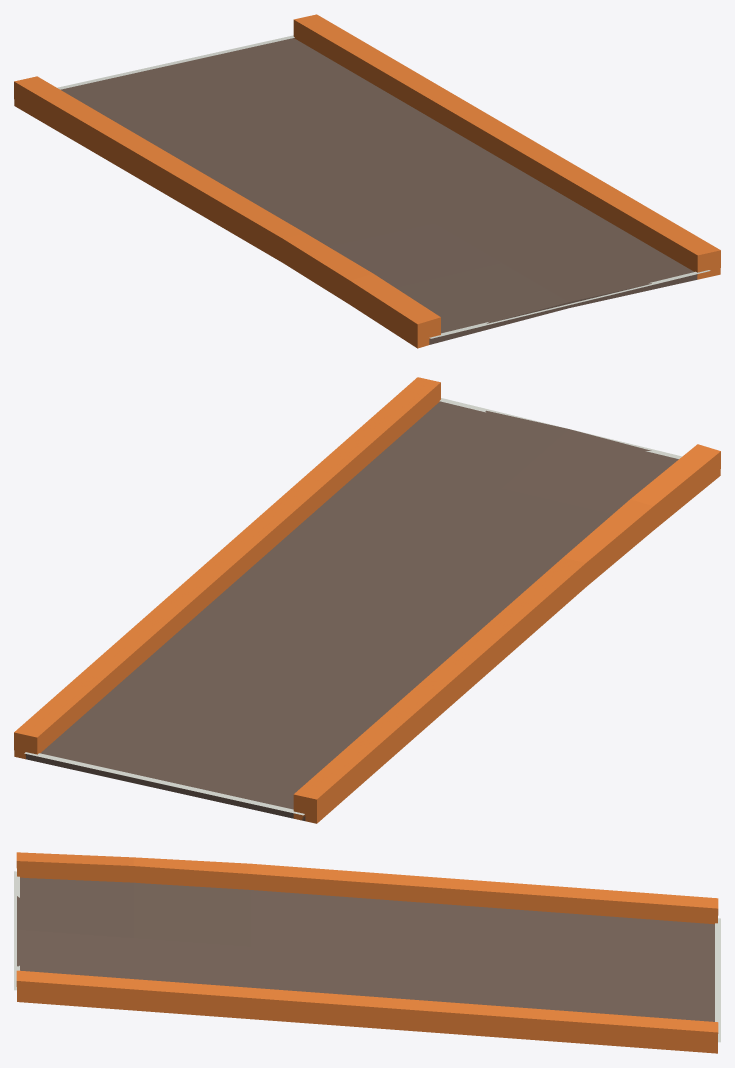
The model's file is SM_MP_Film_A_0_3.fbx.
3 renders of one model, top to bottom at view 1: azimuth 30°, elevation 25°; view 2: azimuth 150°, elevation 25°; view 3: azimuth 270°, elevation 25°, orthographic. The views are drawn at different scales.
Parts seen in each view (by area): view 1: SM_MP_Film_A_0_3; view 2: SM_MP_Film_A_0_3; view 3: SM_MP_Film_A_0_3.
Part boxes in pixels (bbox=[...]): SM_MP_Film_A_0_3: bbox=[14, 14, 720, 348]; SM_MP_Film_A_0_3: bbox=[14, 377, 720, 823]; SM_MP_Film_A_0_3: bbox=[14, 852, 720, 1053].
Size of what is drawn, in the model's own units: 260 by 605 by 70.01.
